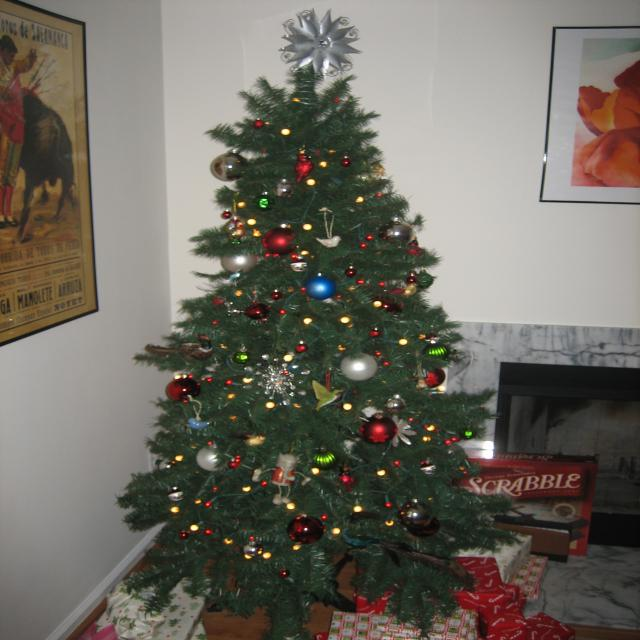Christmas-tree: (109, 5, 536, 640)
